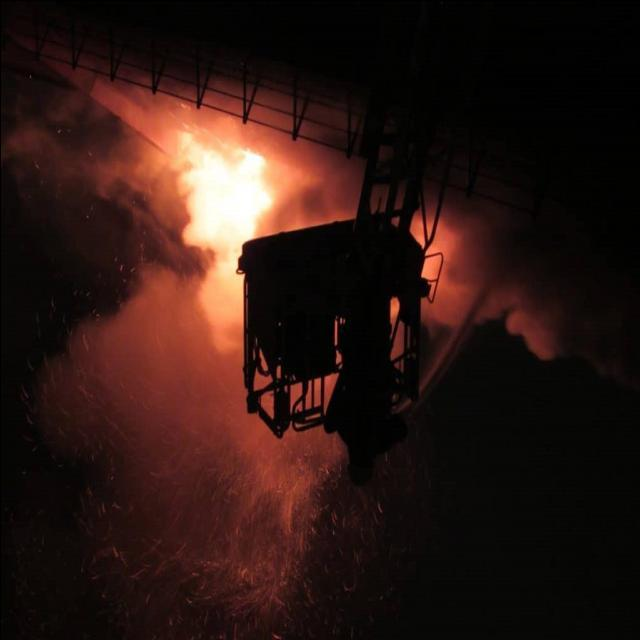Fire: (170, 124, 274, 284)
